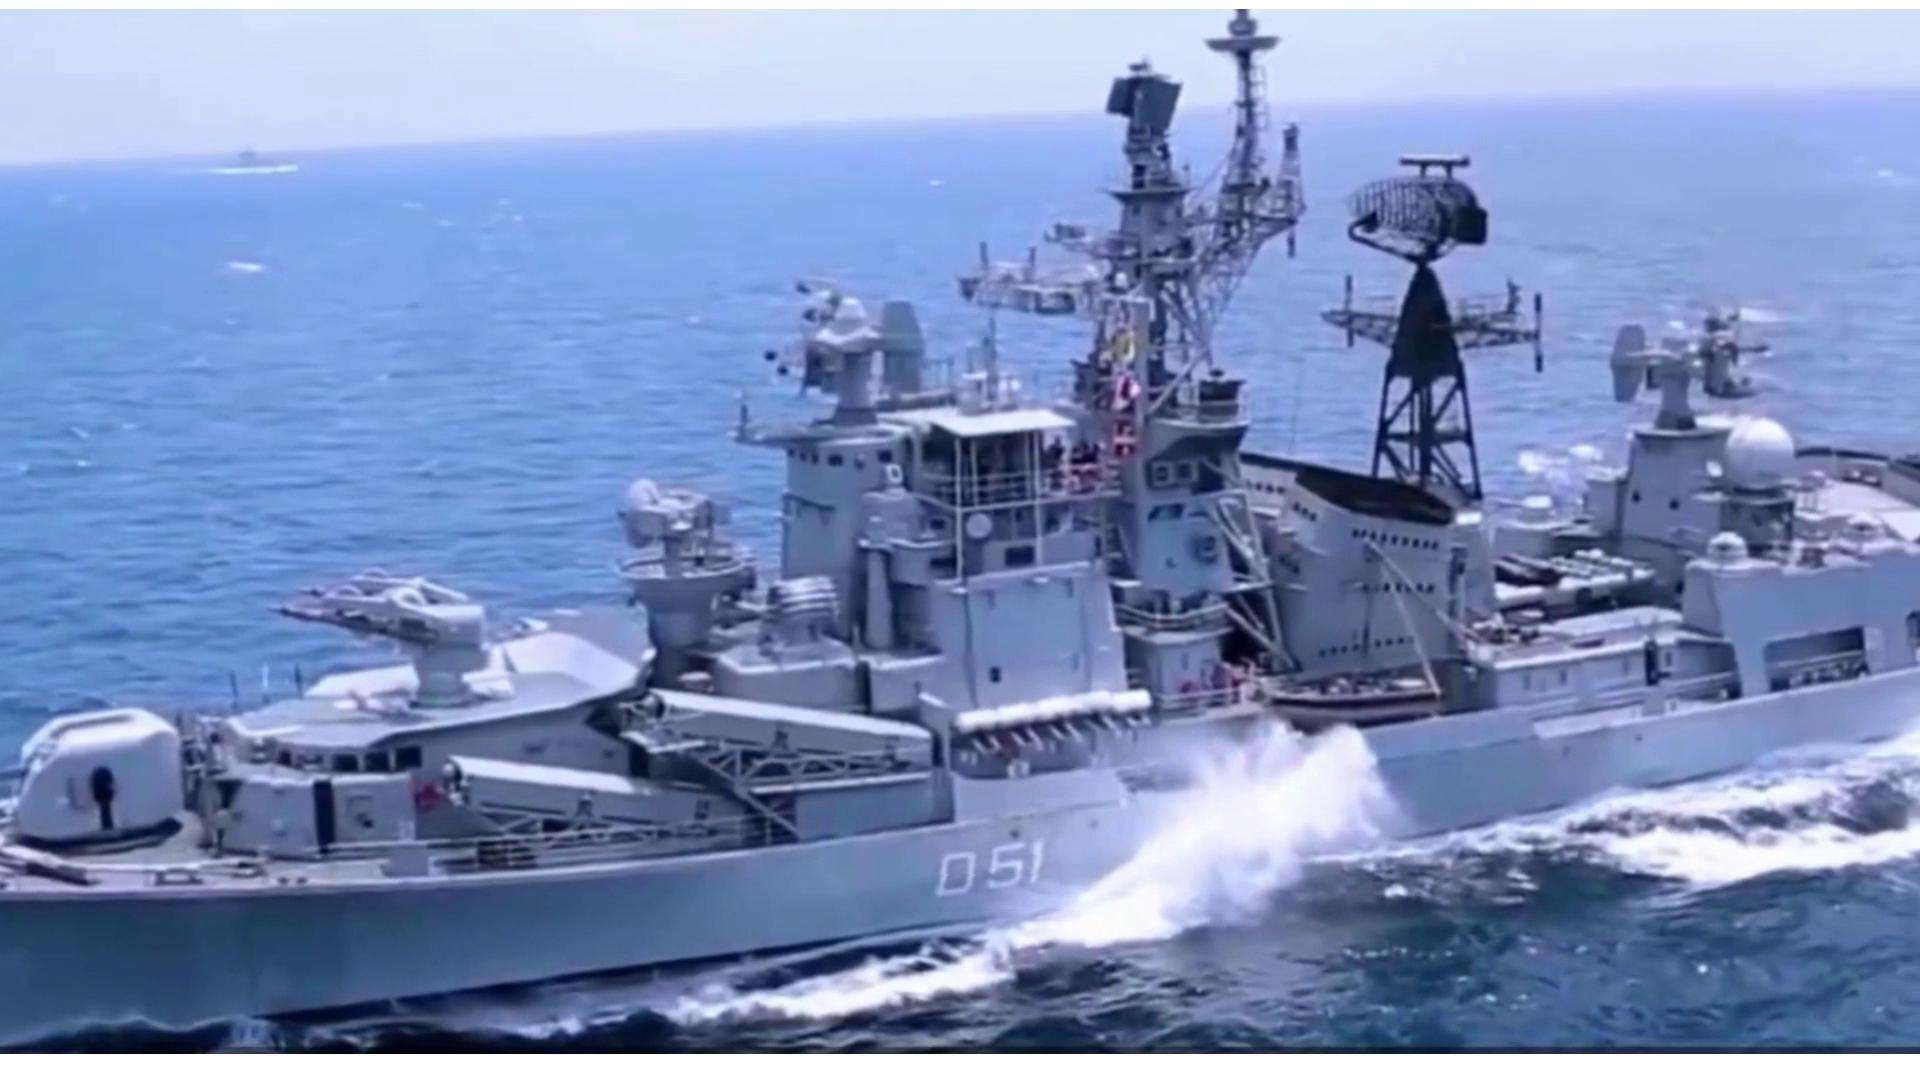OCR: (910, 827, 1060, 913)
